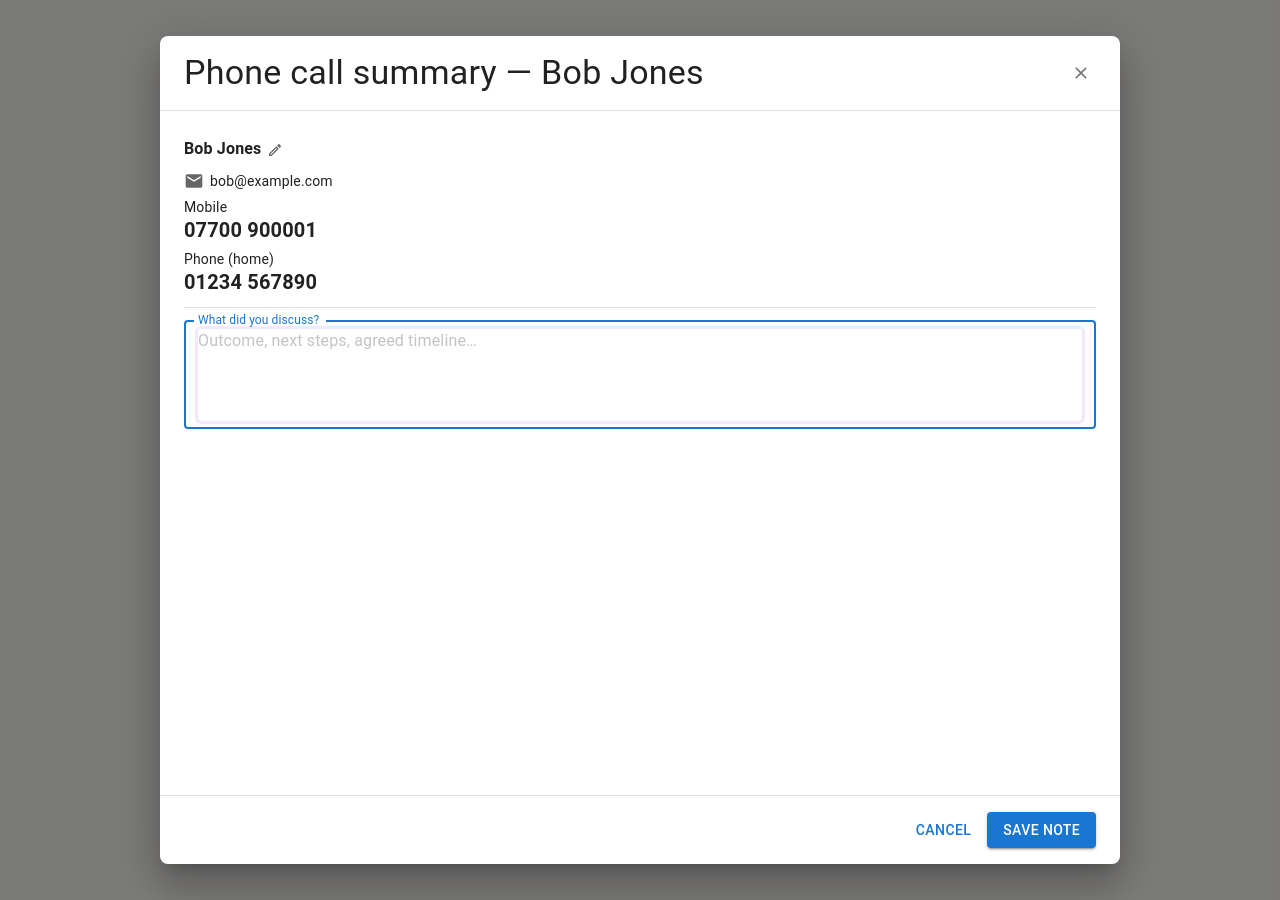
PhoneSummaryModal — discard guard: dirty state shows dialog › "Keep editing" dismisses the discard dialog without closing the modal
Type "Some notes" into the text box labelled "What did you discuss?".
click(640, 374); type("Some notes")  # box [198,328,1082,420]
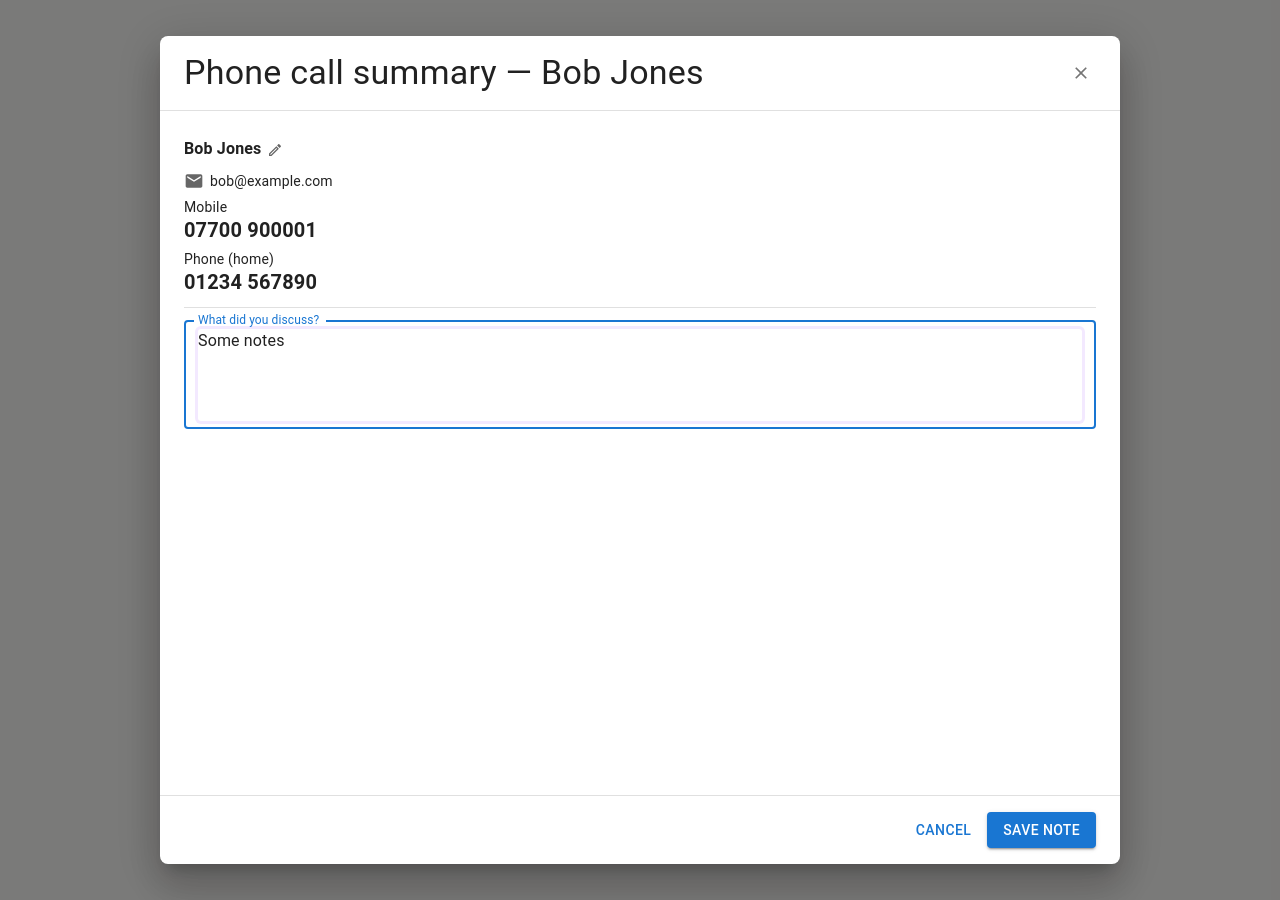
Click the button named "close".
click(1081, 73)  # box [1066,58,1096,88]
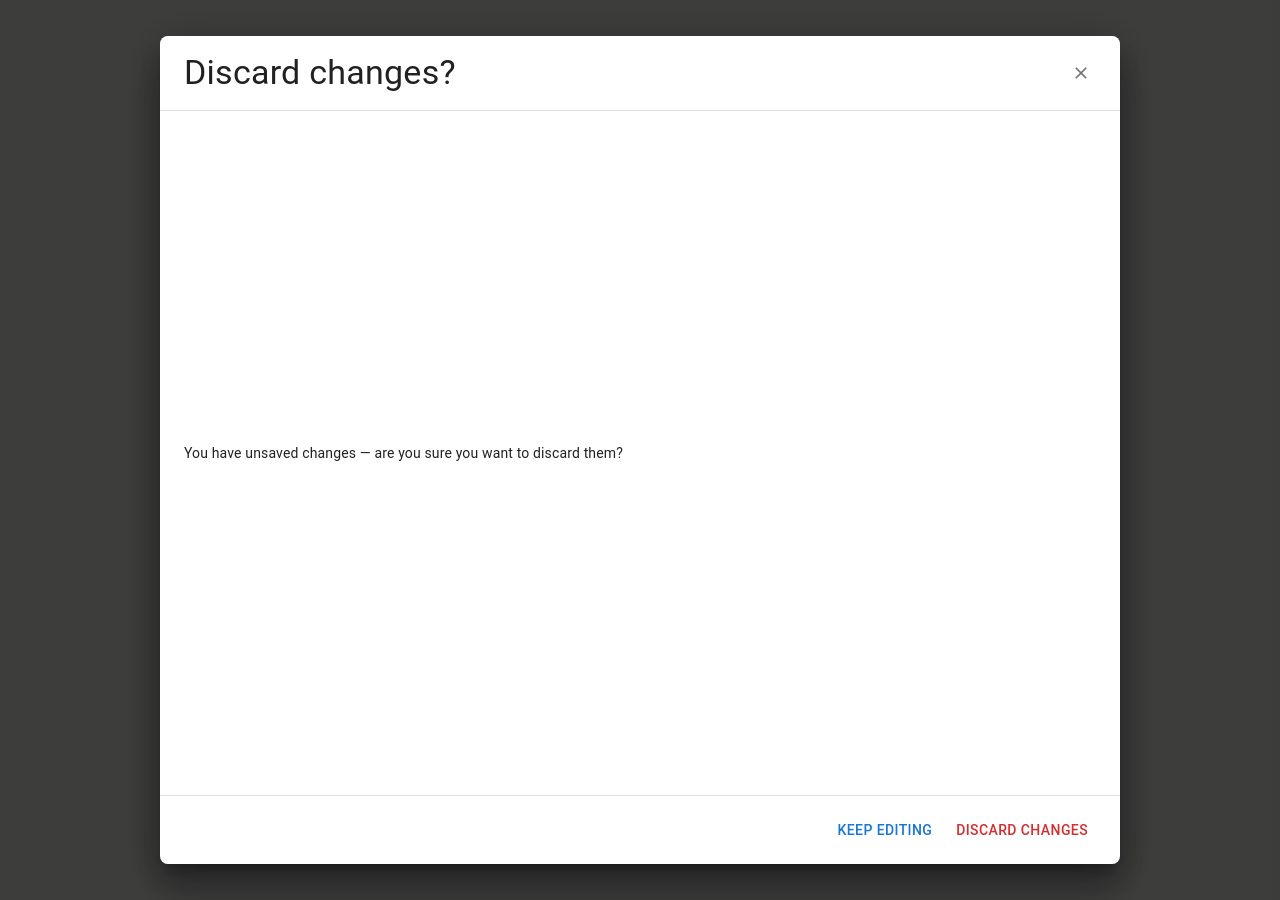
Check: the dialog "Discard changes" is shown
Click the button "Keep editing".
click(885, 830)  # box [830,812,940,848]
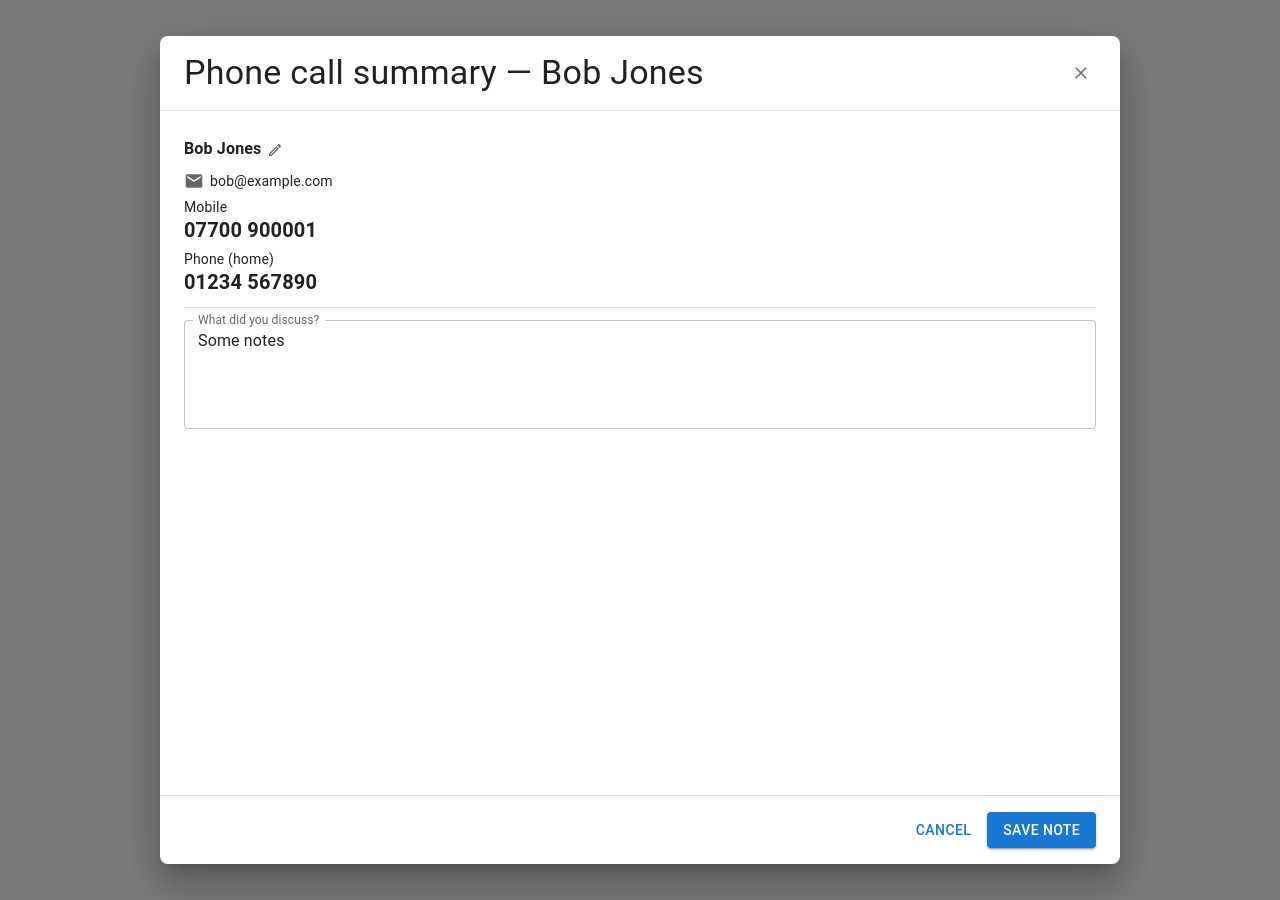
Check: the heading "Discard changes" is gone
